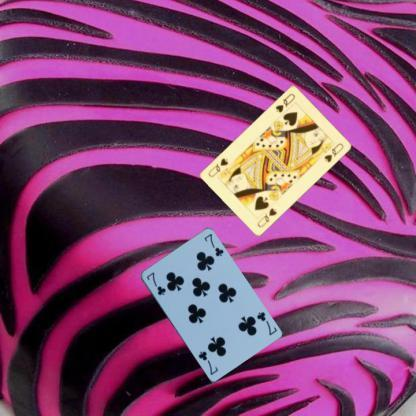7c: (254, 309, 278, 336), (144, 270, 167, 297)
Qs: (272, 90, 296, 113), (255, 205, 278, 228)
